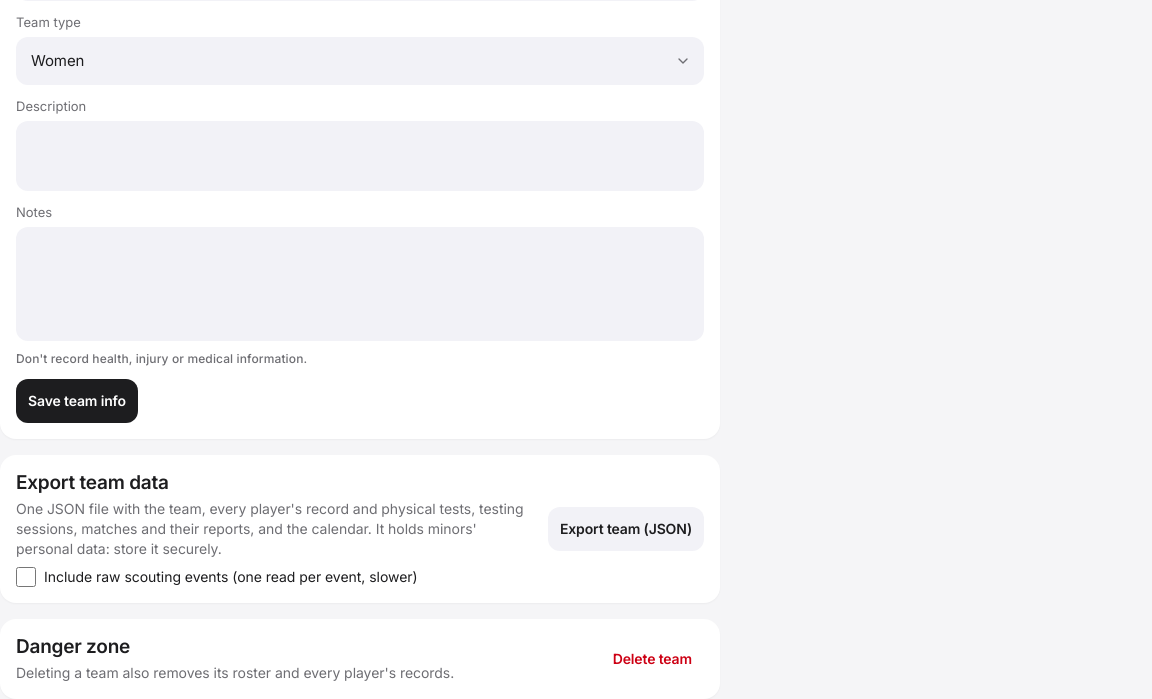
TeamSettingsTab › shows an error message when deleting the team fails
(page scrolled)
Click the button "Delete team".
click(652, 659)  # box [601, 637, 704, 681]
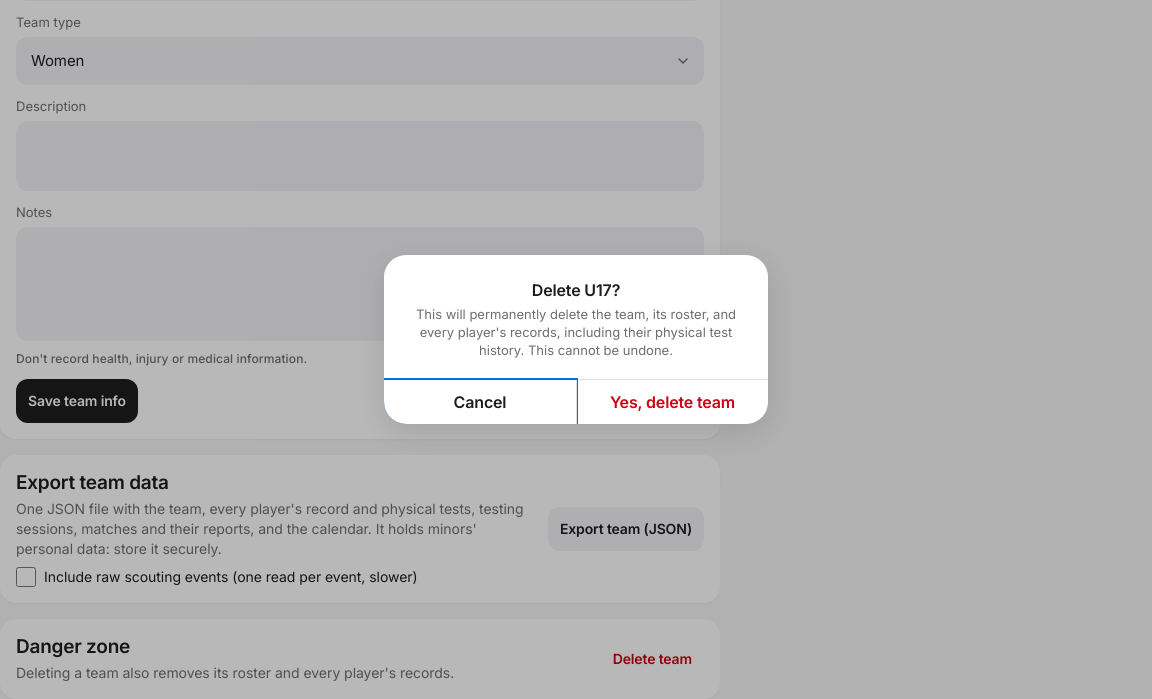
Click the button "Yes, delete team".
click(672, 402)  # box [576, 380, 768, 424]
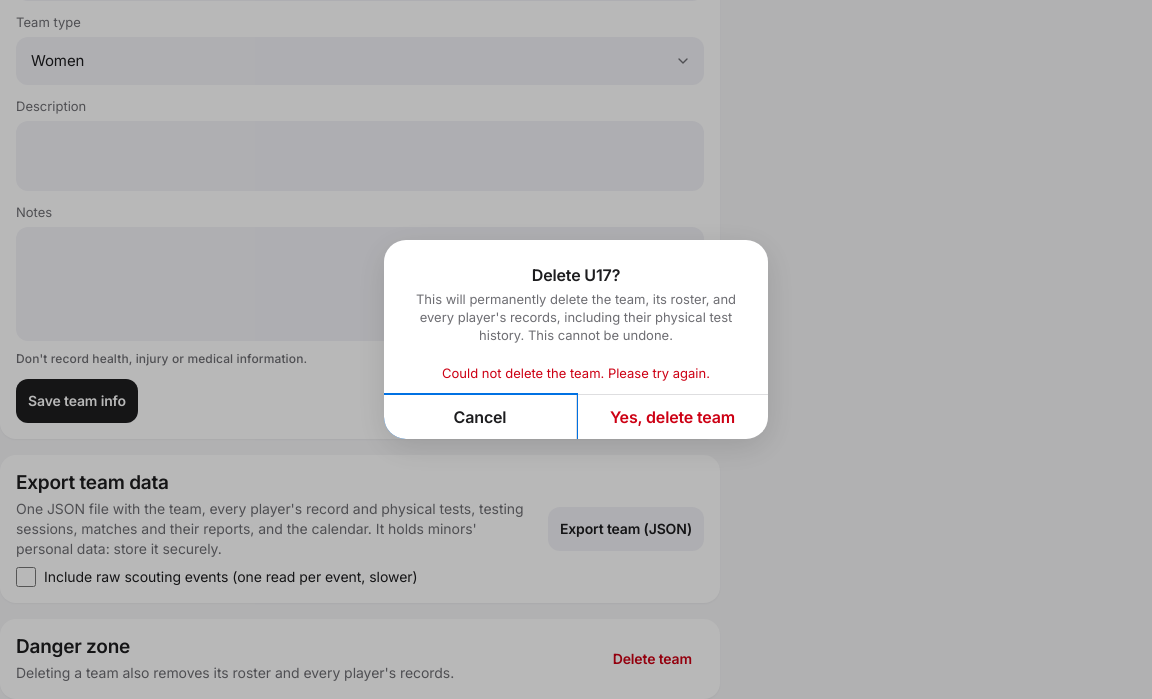
expect the message "Could not delete the team. Please try again." is shown: met, box [442, 364, 710, 380]
